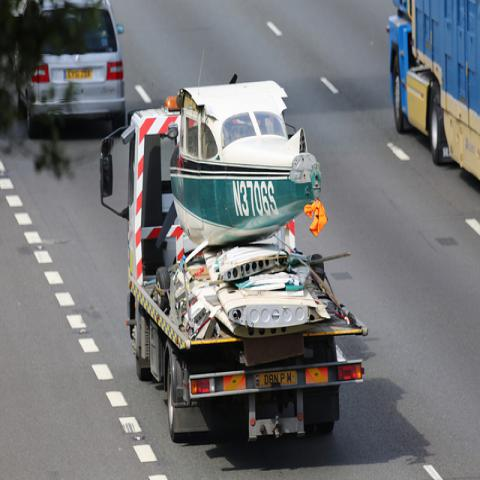car: (16, 1, 128, 142)
truck: (99, 78, 371, 444), (389, 2, 479, 181)
